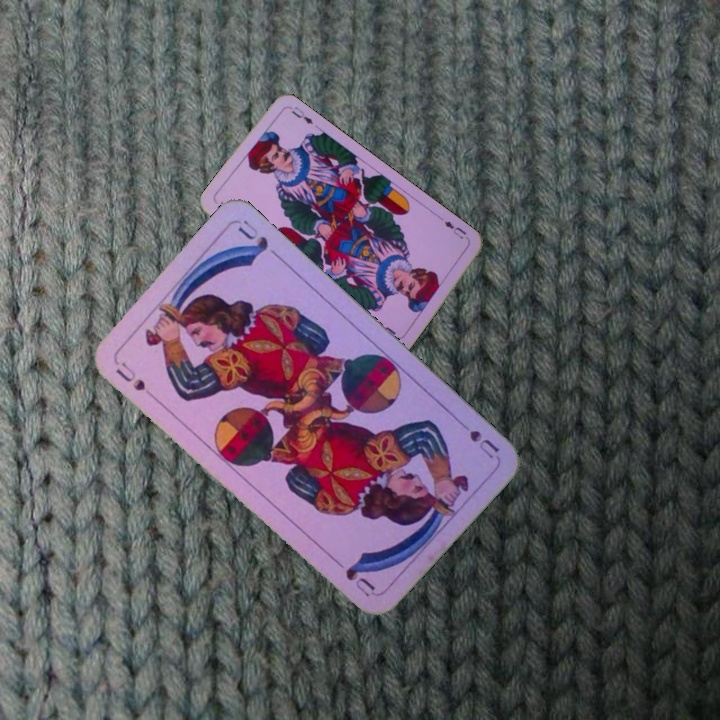EU: (436, 214, 471, 242)
SU: (452, 414, 502, 462), (112, 357, 148, 394)
